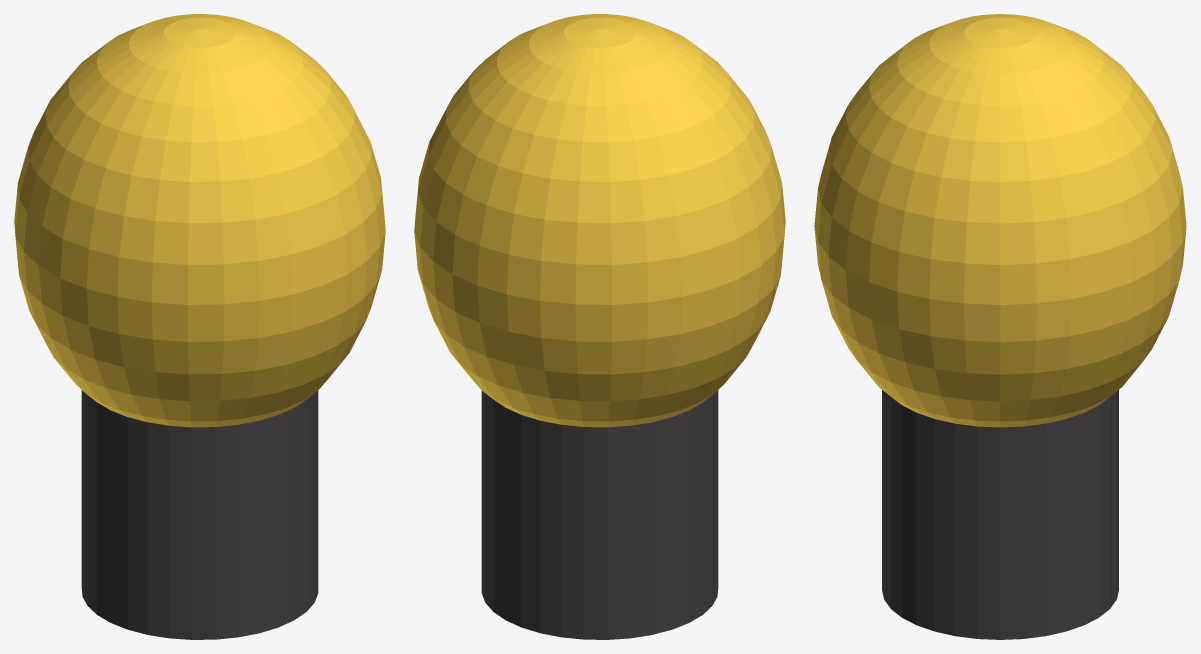
File: lightbulb.glb
3 renders of one model, left to right at view 1: azimuth 30°, elevation 25°; view 2: azimuth 150°, elevation 25°; view 3: azimuth 270°, elevation 25°, orthographic.
Parts seen in each view (by area): view 1: Cylinder; view 2: Cylinder; view 3: Cylinder.
Boxes of the visible parts, x1=… form: Cylinder: x1=14, y1=14, x2=385, y2=639; Cylinder: x1=414, y1=14, x2=785, y2=639; Cylinder: x1=814, y1=14, x2=1186, y2=639.
Bounding box in the file's own units: 0.6277 × 1.04 × 0.6277.
Materials: 1 (1 with a texture image).
